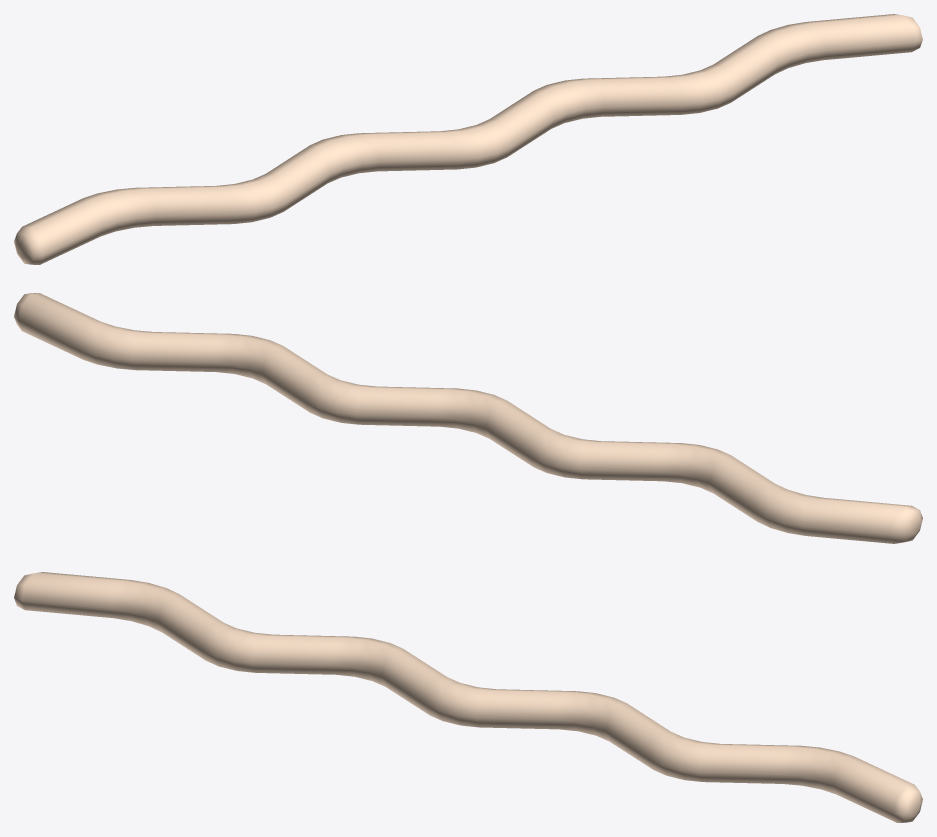
File: Souse.005.fbx
3 views of the same model, one above another, from view 1: azimuth 30°, elevation 25°; view 2: azimuth 150°, elevation 25°; view 3: azimuth 330°, elevation 25° (orthographic).
Visible parts, largest first — view 1: Souse.005; view 2: Souse.005; view 3: Souse.005.
Boxes of the visible parts, x1,y1,x2,y2 form: Souse.005: [14, 14, 922, 264]; Souse.005: [14, 293, 922, 543]; Souse.005: [14, 572, 922, 822].
Bounding box in the file's own units: 153 × 14.66 × 5.82.
